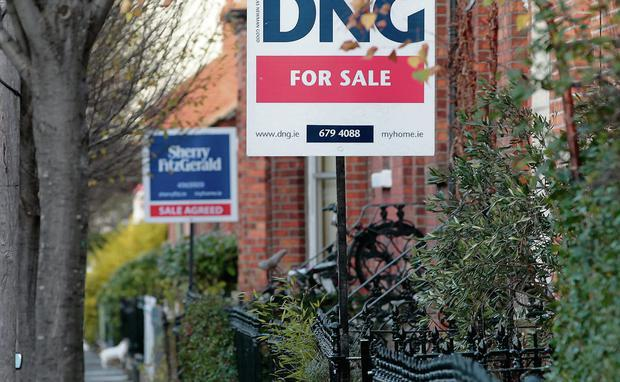property sign: (244, 1, 446, 168), (138, 123, 242, 238)
